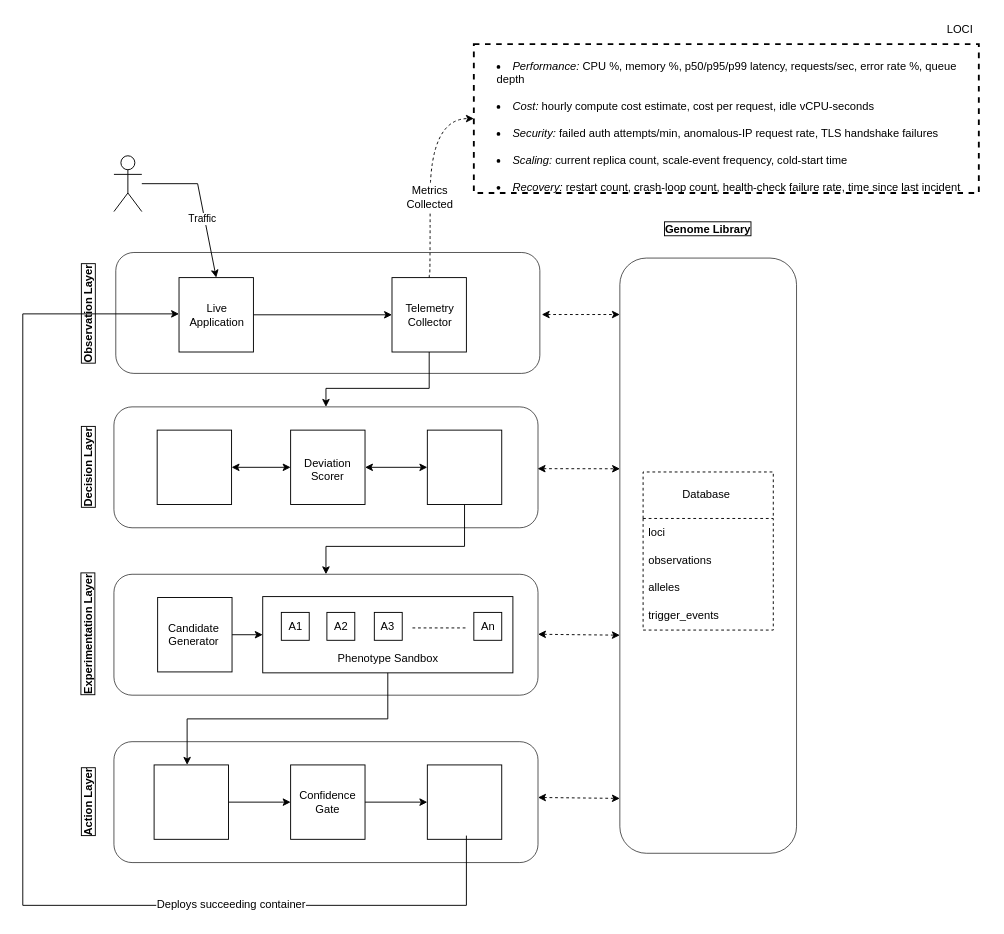
This 1004x934 diagram has some shape labels left out. Here are the shapes that lost their labels. From the top down, the centre of each, then its label:
point 127,183: Users
point 194,467: Baseline Calculator
point 464,467: Trigger Classifier
point 191,801: Fitness Evaluator
point 464,801: Promotion Engine
